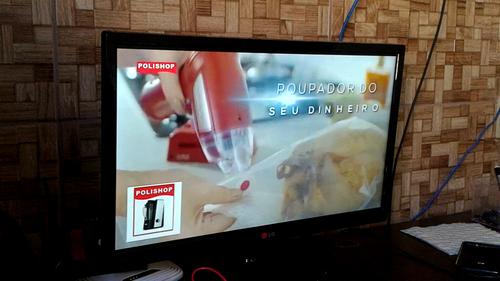Polishop #1: (126, 180, 182, 242)
